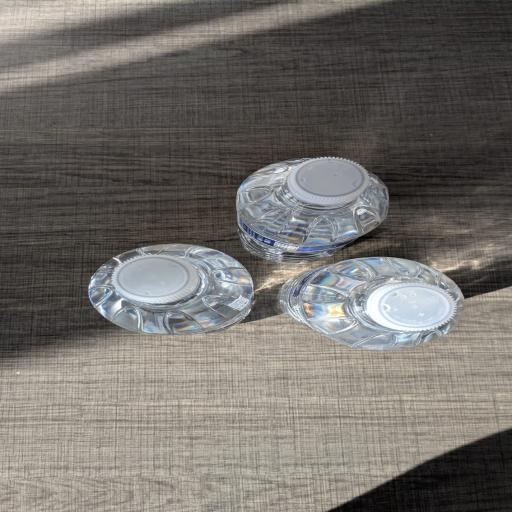waterbottle: (280, 258, 463, 349), (237, 158, 388, 262), (89, 244, 253, 334)
